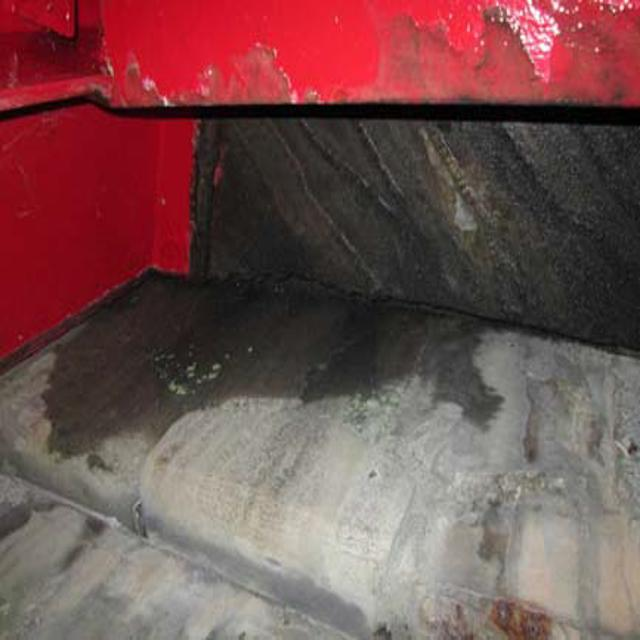leakage: (158, 127, 638, 396)
